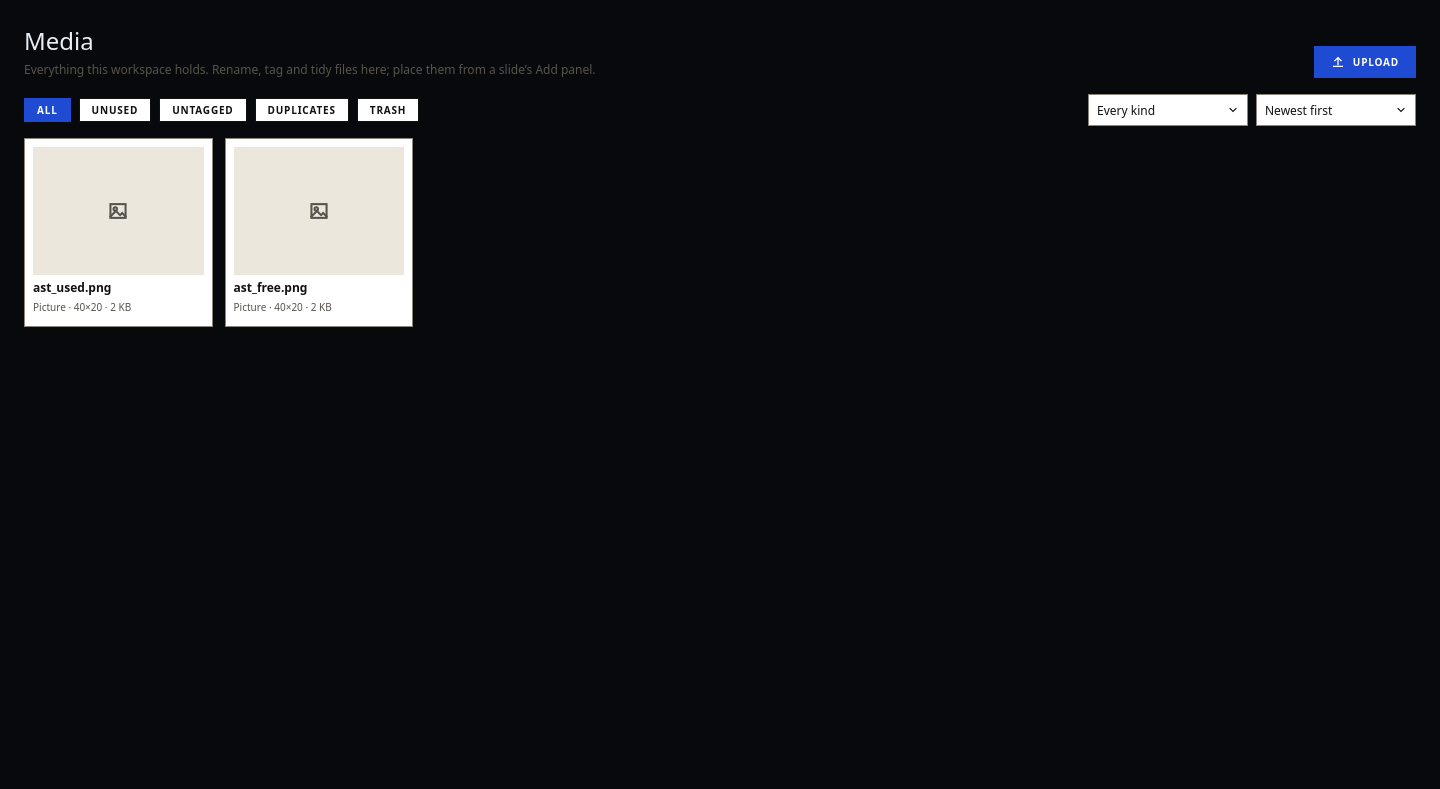
Media page › renames and tags a file with the version it read, then undoes nothing it did not do
The width and height of the screenshot is (1440, 789).
Click the button with test id "media-card" that starts with "ast_free.png" at (319, 232), box x1=225 y1=138 x2=413 y2=327
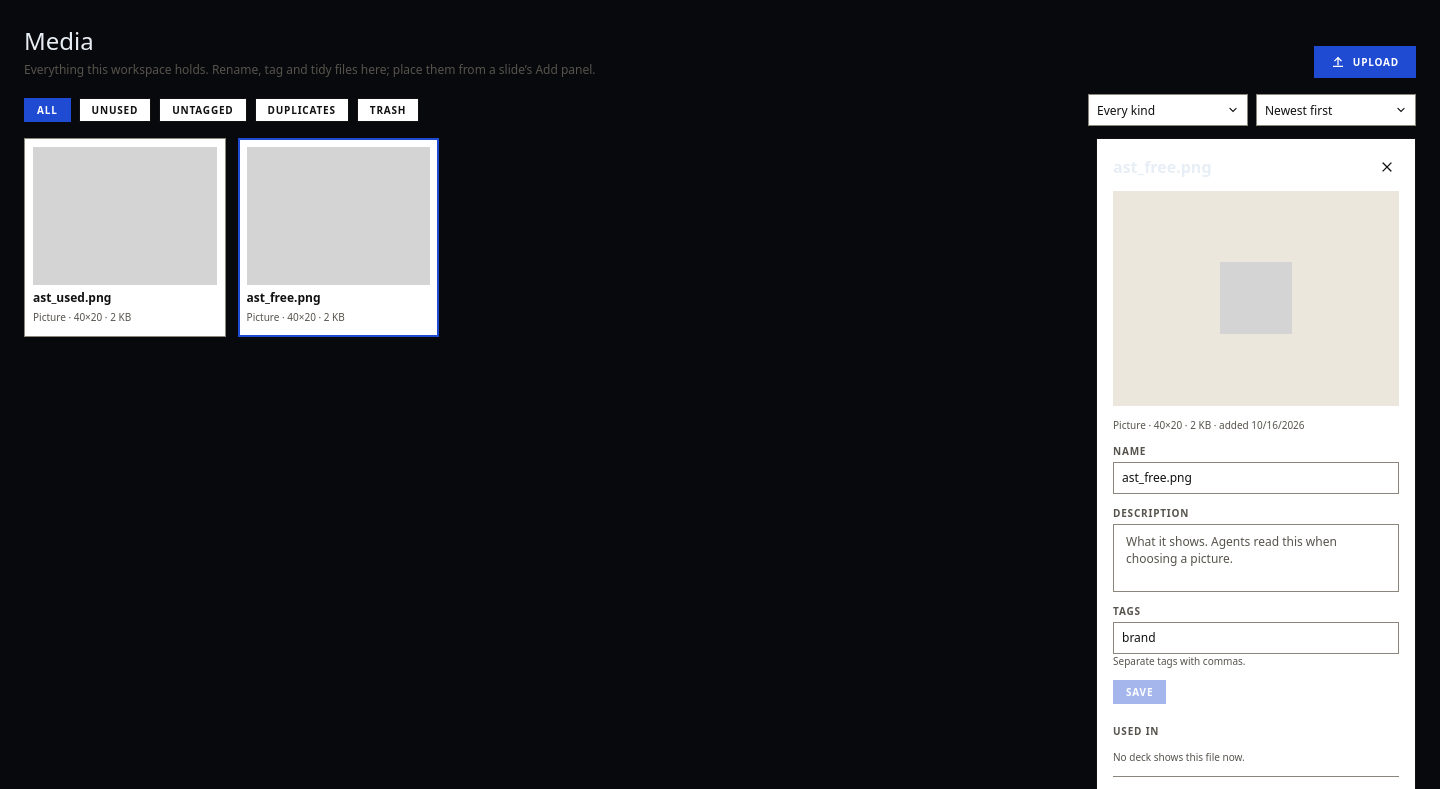
Now the text "No deck shows this file now." is shown, box x1=1113 y1=750 x2=1245 y2=764
Replace the text in the field with test id "media-name" with "Logo" at (1256, 478), box x1=1113 y1=462 x2=1399 y2=494
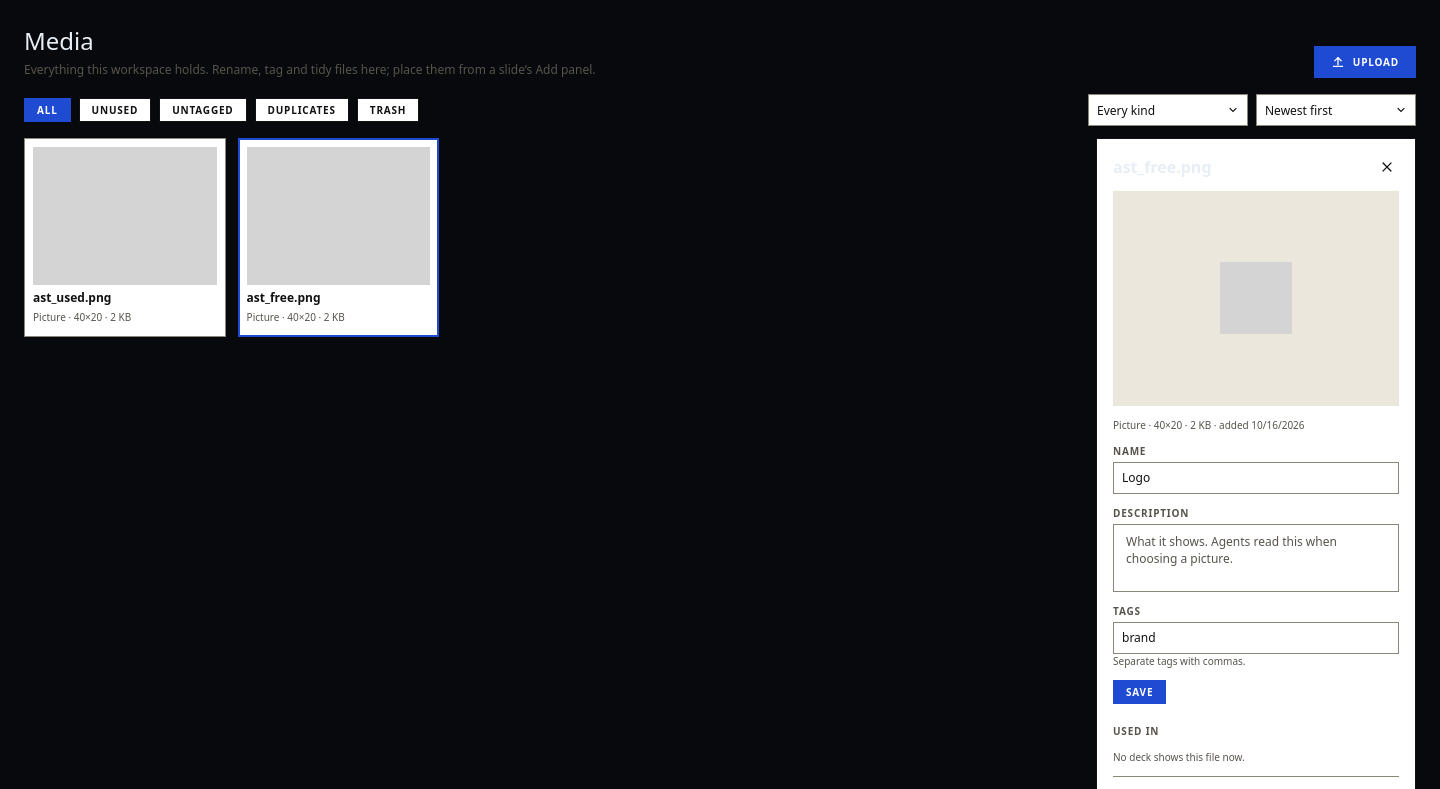
Replace the text in the field with test id "media-tags" with "brand, hero, Brand" at (1256, 638), box x1=1113 y1=622 x2=1399 y2=654
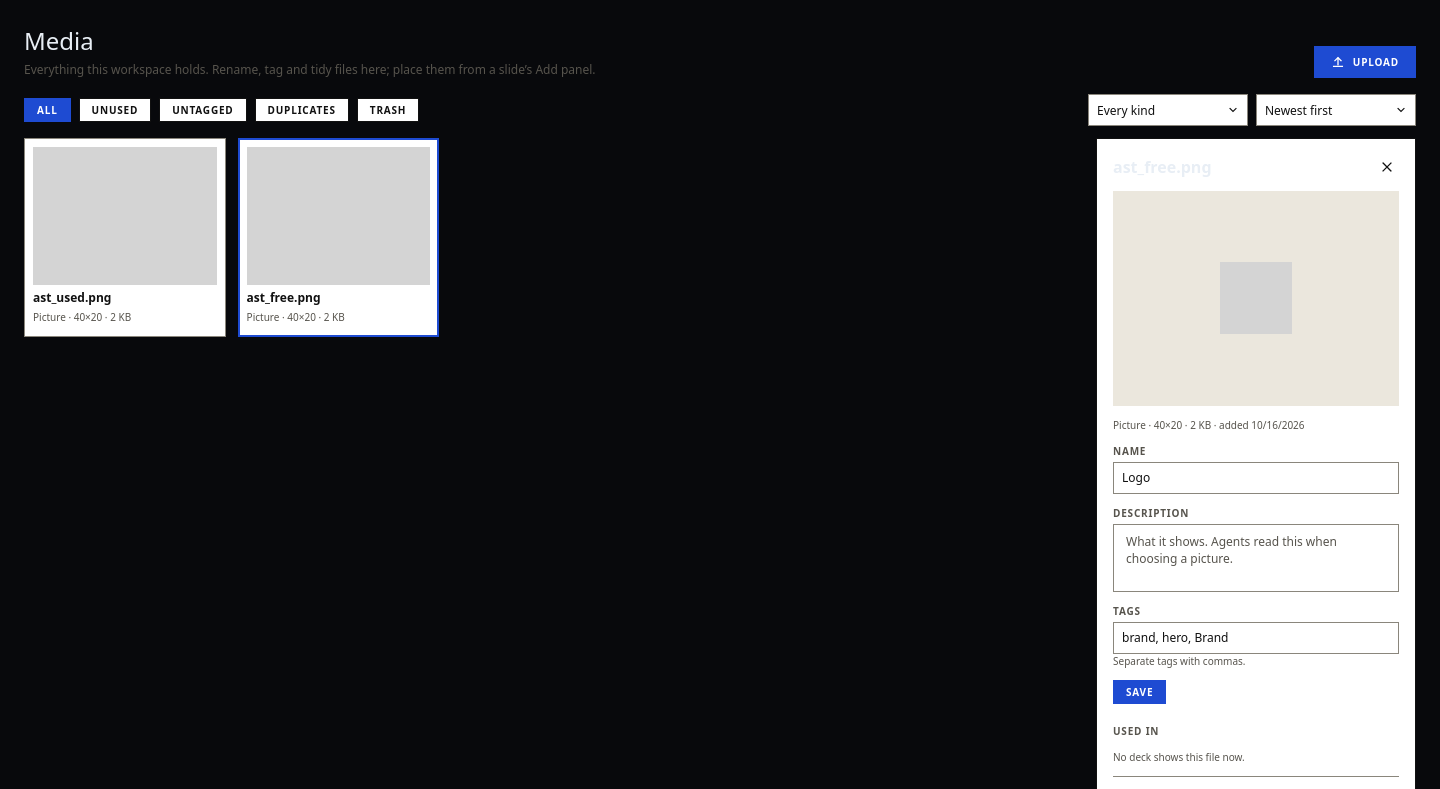
Click the button with test id "media-save" at (1140, 692), box x1=1113 y1=680 x2=1166 y2=704
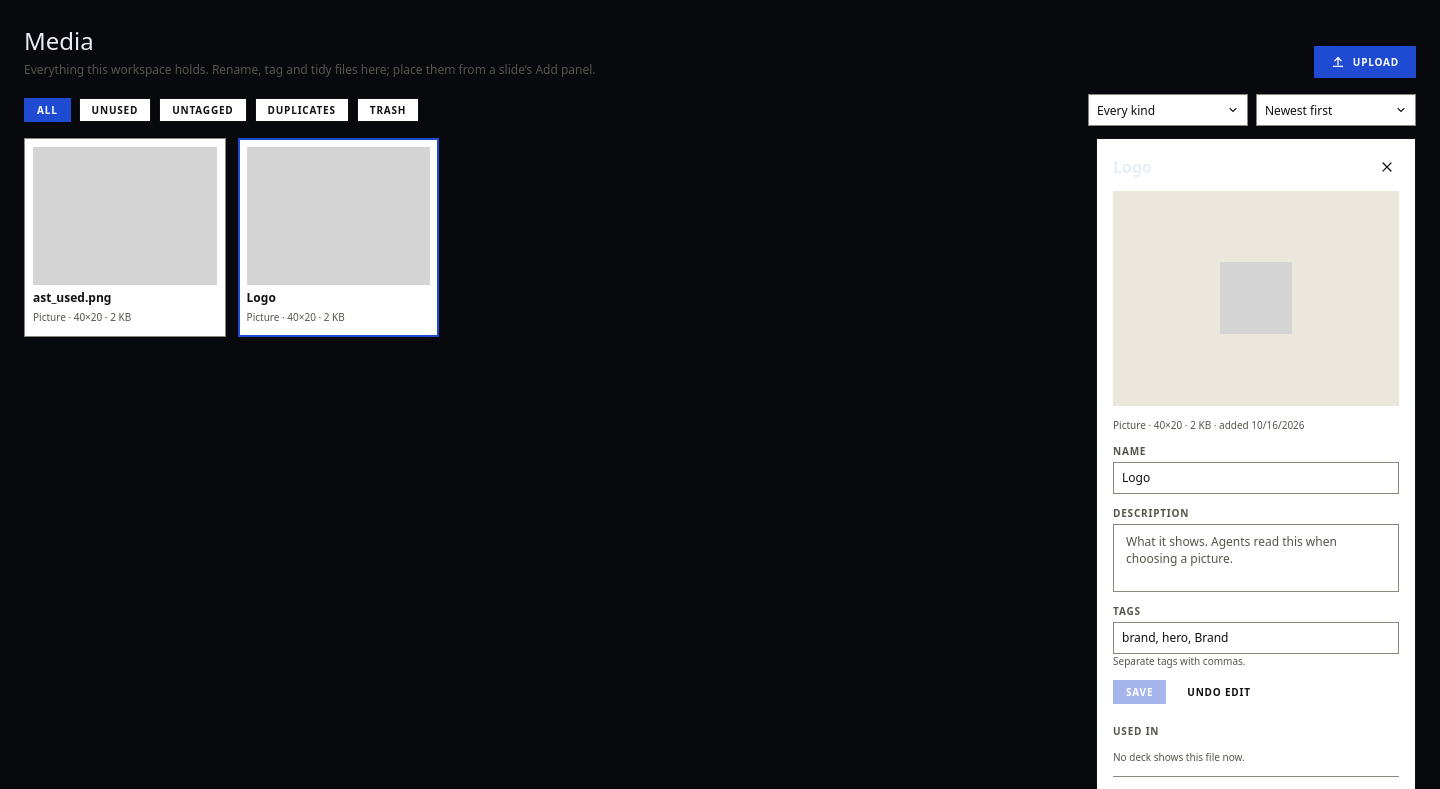
Now the button with test id "media-undo-edit" is shown, box x1=1174 y1=680 x2=1264 y2=704
